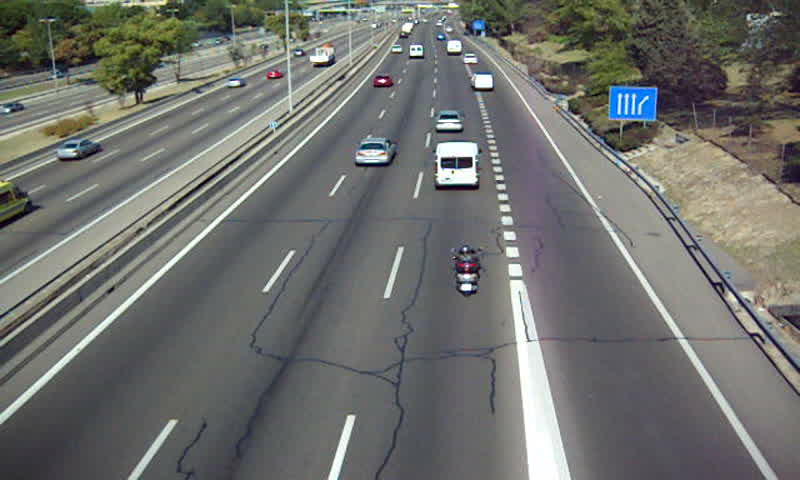car: (354, 138, 396, 166), (433, 110, 464, 133), (373, 75, 391, 89)
motorcycle: (451, 243, 484, 297)
van: (434, 141, 480, 188), (468, 72, 494, 91)
